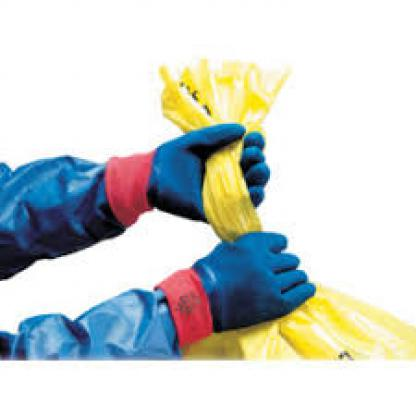with_gloves: (154, 231, 316, 351), (103, 122, 270, 227)
